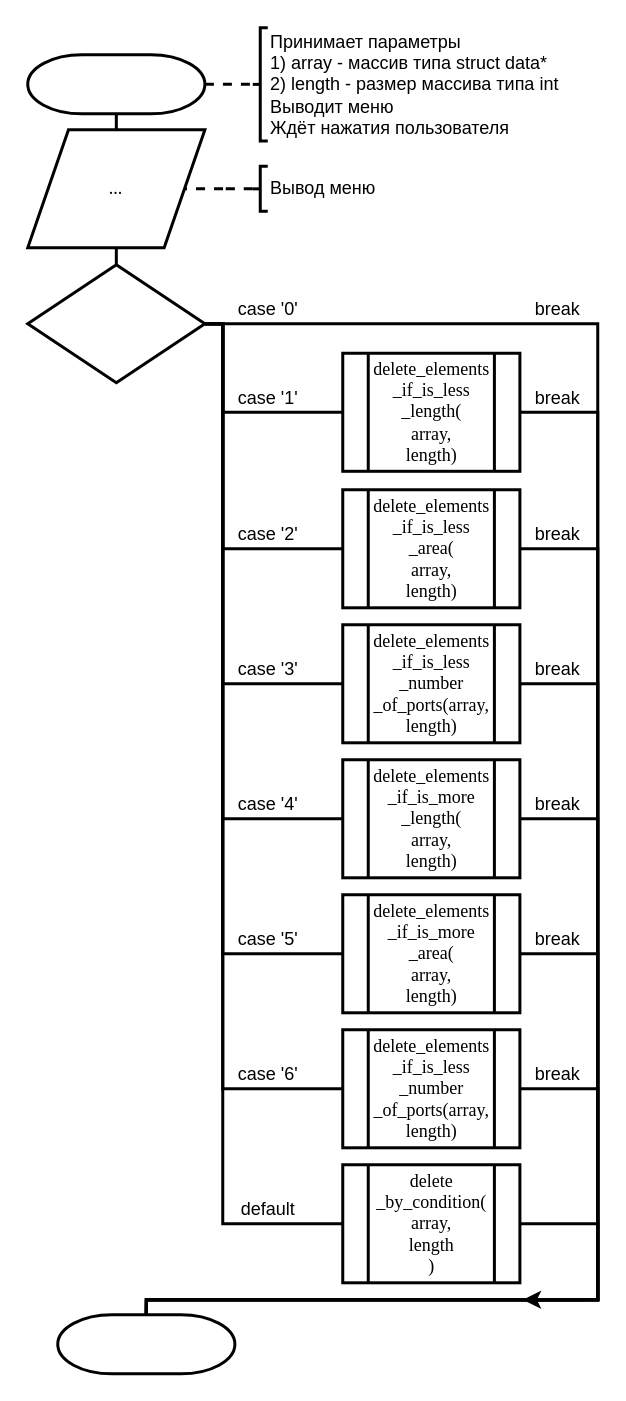
The diagram is 626 pixels wide and 1401 high, and some of its shapes have lost their labels. The shapes that lost their labels are listed below. From the top down, each one's centre as x and y in pixels, then its label:
[116,83]: void delete _by_condition()
[116,323]: getch()
[146,1343]: Конец
